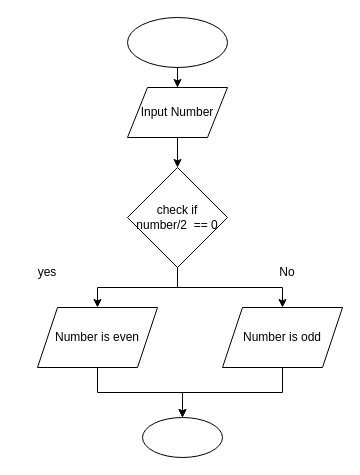
The diagram is 360 pixels wide and 475 high, and some of its shapes have lost their labels. The centre of each missing label's shape, as x and y in pixels:
"End" belongs at pixel 182 437.
"Start" belongs at pixel 177 42.
